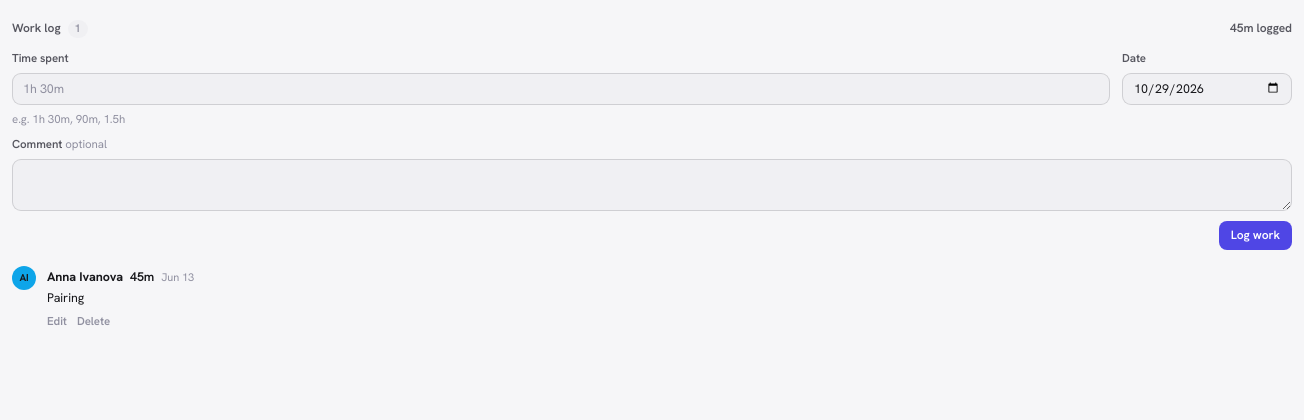
Scenario: the work log section › puts a refused delete back
The image size is (1304, 420).
What coordinates should you click on to do the following:
click the button with aria-label "Delete 45m logged"
I would click on:
 (94, 321)
Its box is [73,307,114,335].
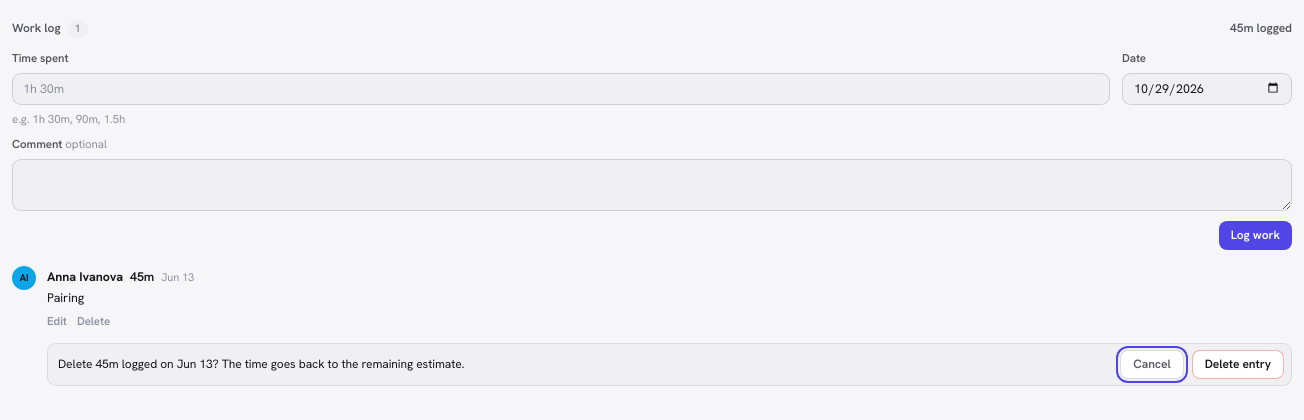
What coordinates should you click on to do the following:
click the button "Delete entry"
I would click on:
 (1238, 365)
Its box is [1192,350,1284,379].
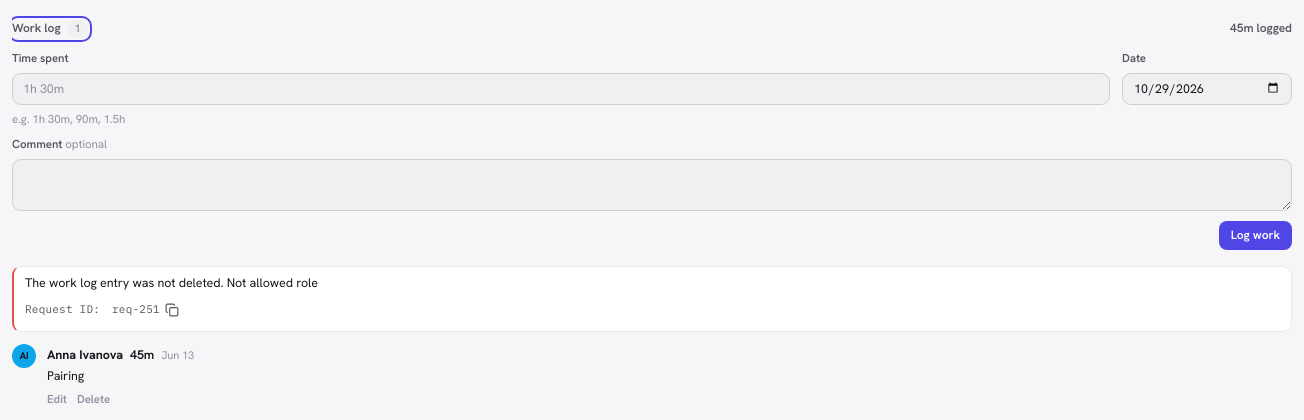
Expected: the text "Pairing" is shown, [47,367,84,384]
Result: the text "The work log entry was not deleted. Not allowed role" is shown at [25,274,318,291]
